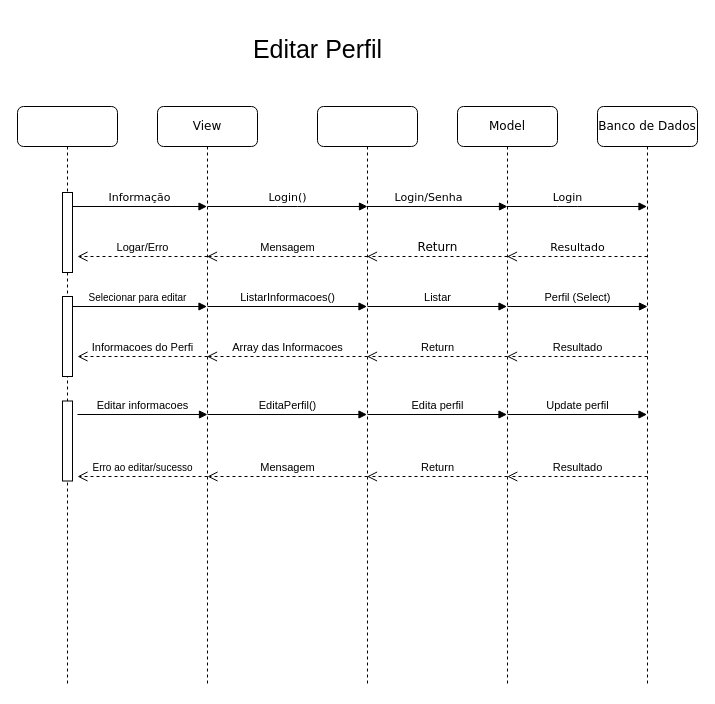
The diagram is 715 pixels wide and 704 high, and some of its shapes have lost their labels. Here are the shapes that lost their labels. From the top down, the box of each, then its label:
(16, 106, 118, 686): Usuário
(316, 106, 418, 686): Controller
